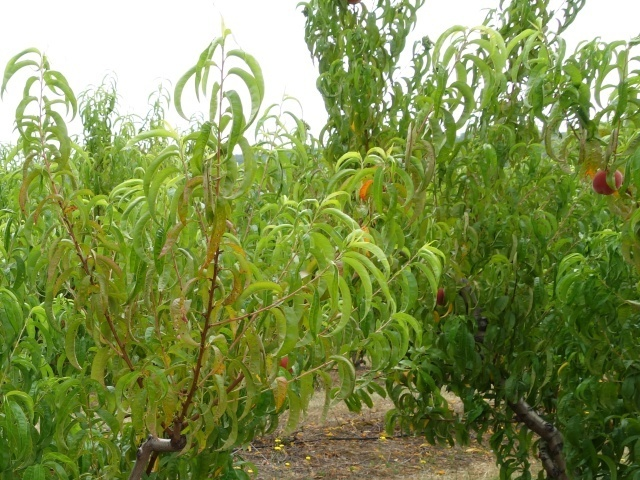peach: (588, 164, 626, 197)
